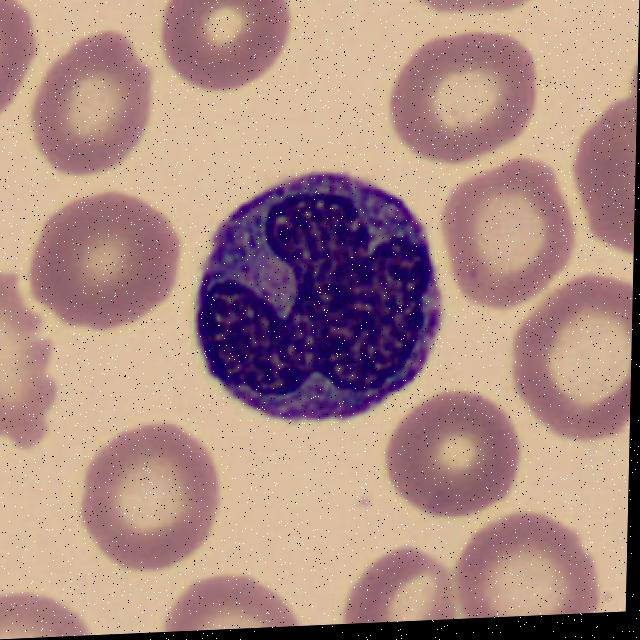monocyte: (193, 159, 452, 436)
rbc: (14, 173, 186, 338), (513, 266, 633, 482), (434, 149, 584, 318), (70, 409, 226, 571), (26, 20, 166, 196), (385, 17, 539, 162), (386, 373, 507, 524), (460, 501, 609, 619), (139, 0, 301, 91), (0, 252, 68, 456), (146, 552, 313, 633), (561, 88, 637, 264), (364, 534, 464, 623), (0, 567, 102, 640), (380, 0, 580, 25), (0, 0, 35, 123)
